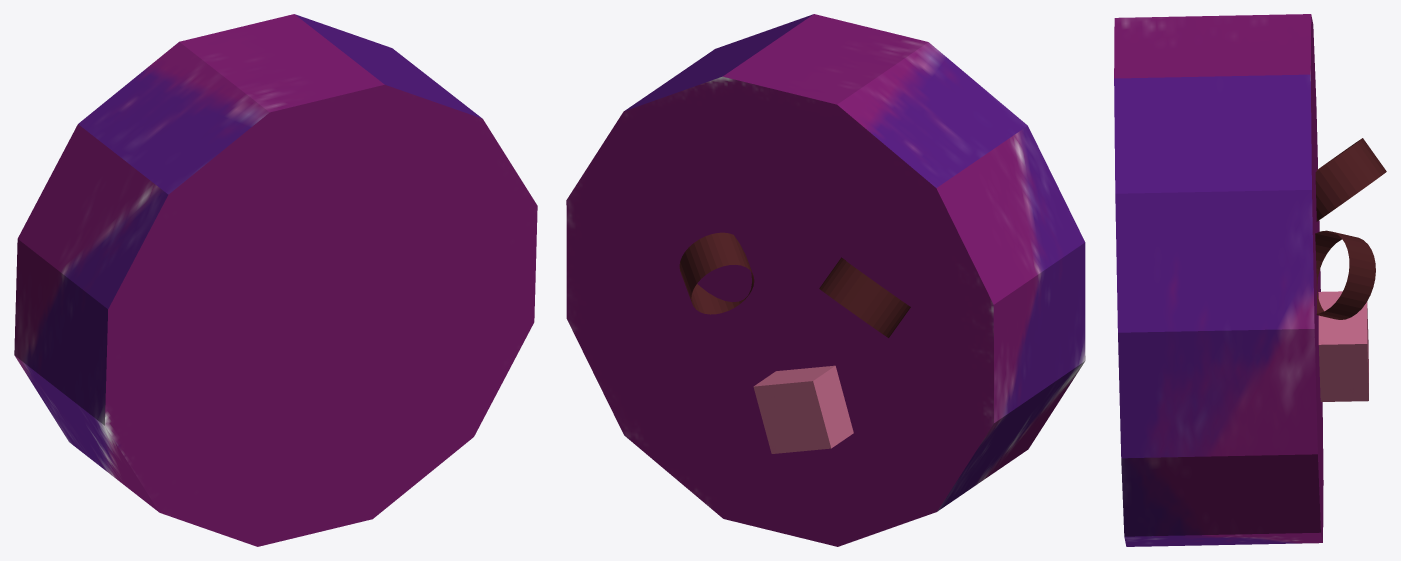
Rendered from bossGrapesOnly.obj.
3 renders of one model, left to right at view 1: azimuth 30°, elevation 25°; view 2: azimuth 150°, elevation 25°; view 3: azimuth 270°, elevation 25°, orthographic. The views are drawn at different scales.
Parts seen in each view (by area): view 1: 立方体.003; view 2: 立方体.003; view 3: 立方体.003.
Part boxes in pixels (x1,y1,x2,y2): 立方体.003: [14, 14, 537, 546]; 立方体.003: [566, 14, 1085, 546]; 立方体.003: [1114, 14, 1386, 546].
Size of the model in its own units: 0.3747 by 0.3666 by 0.1904.
Materials: 1 (1 with a texture image).
